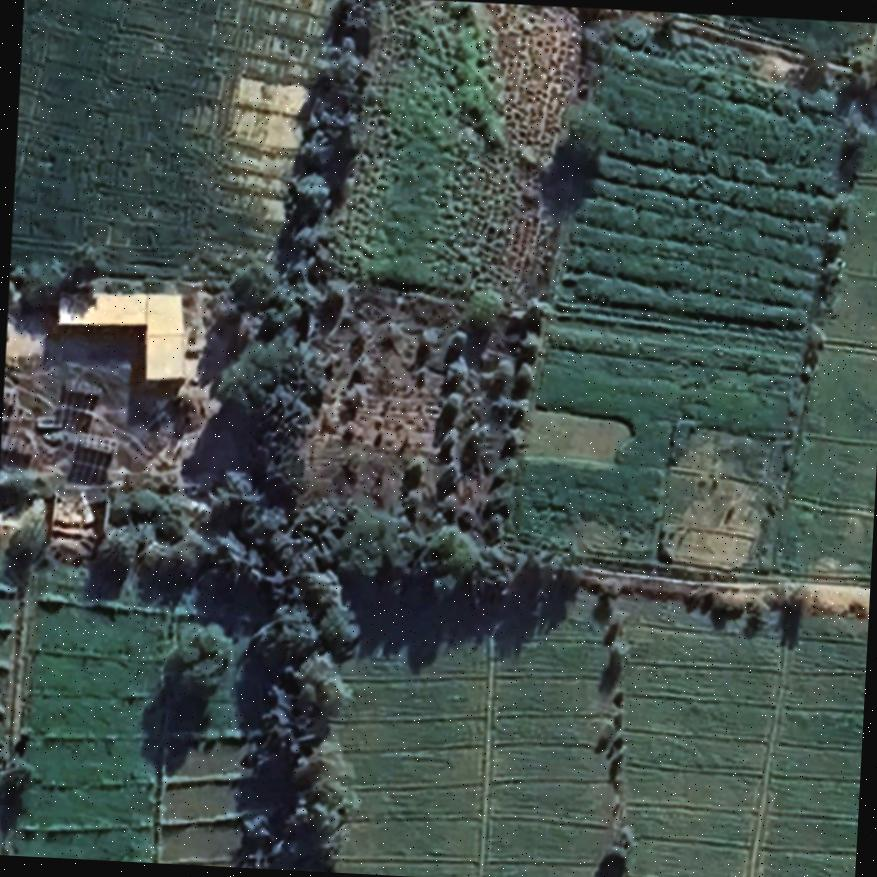Solarpanel: (75, 427, 123, 457), (56, 375, 108, 399)
